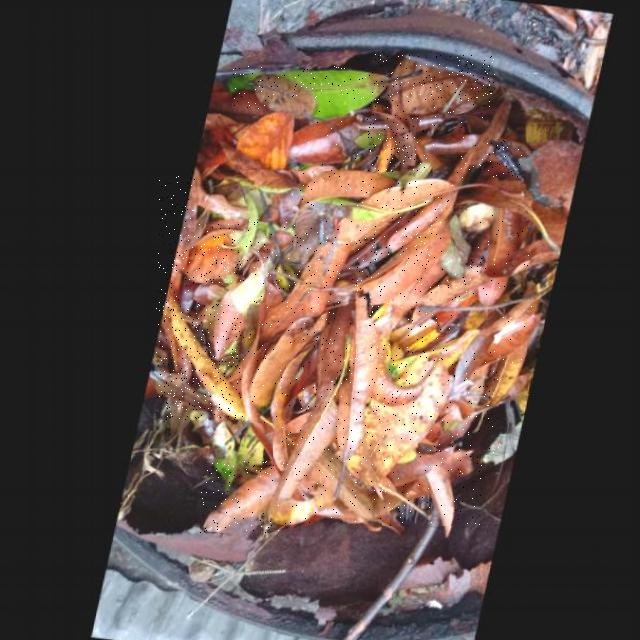biowaste: (249, 219, 359, 364), (273, 298, 349, 502), (346, 344, 447, 484), (156, 303, 241, 419), (243, 310, 321, 423), (382, 438, 482, 526), (354, 206, 442, 301), (370, 263, 476, 341), (414, 359, 499, 454), (447, 299, 532, 393), (233, 66, 378, 120), (333, 291, 375, 463), (376, 54, 495, 112), (278, 101, 378, 170), (466, 209, 531, 304), (200, 461, 279, 532), (175, 223, 270, 282), (368, 88, 430, 172), (158, 175, 195, 309), (317, 462, 395, 523), (221, 109, 297, 169), (417, 101, 487, 154), (291, 170, 386, 206), (351, 180, 454, 212), (267, 482, 333, 527), (454, 139, 524, 178), (330, 214, 396, 250)
